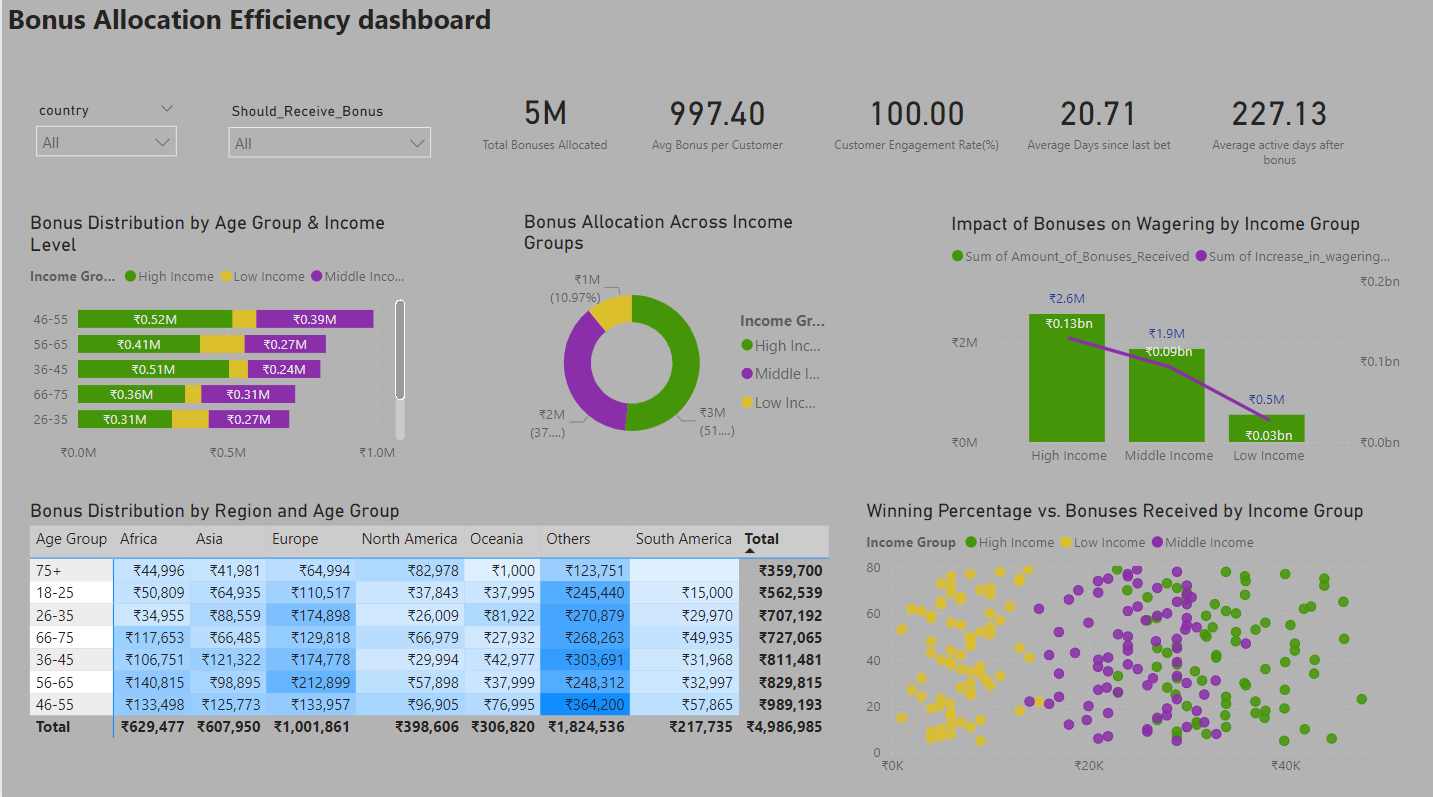

What the dashboard file says about the page in this screenshot:
{"tool":"powerbi","page":{"name":"Bonus alloc Efficiency1","canvas":[1280,720],"ordinal":0},"visuals":[{"type":"donutChart","title":"Bonus Allocation Across Income Groups","fields":{"Y":["Sum(clean_data.Amount_of_Bonuses_Received)"],"Category":["clean_data.Income Group"]},"box":[461.7,191.9,287.1,235.2],"z":0},{"type":"scatterChart","title":"Winning Percentage vs. Bonuses Received by Income Group","fields":{"X":["Sum(clean_data.Amount_of_Bonuses_Received)"],"Y":["clean_data.Winning_percentage"],"Series":["clean_data.Income Group"]},"box":[767.5,450.1,486.2,256.8],"z":1000},{"type":"pivotTable","title":"Bonus Distribution by Region and Age Group","fields":{"Values":["Sum(clean_data.Amount_of_Bonuses_Received)"],"Rows":["clean_data.Age Group"],"Columns":["clean_data.Region"]},"box":[20.2,450.1,747.4,256.8],"z":2000},{"type":"lineClusteredColumnComboChart","title":"Impact of Bonuses on Wagering by Income Group","fields":{"Category":["clean_data.Income Group"],"Y":["Sum(clean_data.Amount_of_Bonuses_Received)"],"Y2":["Sum(clean_data.Increase_in_wagering_after_Bonus)"]},"box":[842.6,194.8,411.2,235.2],"z":3000},{"type":"barChart","title":"Bonus Distribution by Age Group & Income Level","fields":{"Category":["clean_data.Age Group"],"Y":["Sum(clean_data.Amount_of_Bonuses_Received)"],"Series":["clean_data.Income Group"]},"box":[20.2,193.3,344.8,233.7],"z":4000},{"type":"card","fields":{"Values":["clean_data.Total Bonuses Allocated"]},"box":[414.3,50.2,141.8,119.5],"z":5000},{"type":"card","fields":{"Values":["clean_data.Avg Bonus per Customer"]},"box":[544.1,50.3,190.6,119.9],"z":6000},{"type":"card","fields":{"Values":["clean_data.Customer Engagement Rate(%)"]},"box":[729.9,50.3,173.8,119.9],"z":7000},{"type":"card","fields":{"Values":["clean_data.Average Days since last bet"]},"box":[903.7,50.3,153.4,119.9],"z":8000},{"type":"card","fields":{"Values":["clean_data.Average active days after bonus"]},"box":[1064.3,50.3,154.6,119.9],"z":9000},{"type":"slicer","fields":{"Values":["clean_data.country"]},"box":[20.2,90.9,145.7,67.8],"z":10000},{"type":"slicer","fields":{"Values":["clean_data.Should_Receive_Bonus"]},"box":[191.8,91.1,201.3,67.1],"z":11000},{"type":"textbox","box":[0,0,461.7,50.5],"z":12000}]}

Visuals, with their boxes in screenshot pixels (x1, y1, x2, y2), scaled from the page's 1280x720 canvas onto the 1433x797 screenshot:
"Bonus Allocation Across Income Groups" donutChart: (left=517, top=212, right=838, bottom=473)
"Winning Percentage vs. Bonuses Received by Income Group" scatterChart: (left=859, top=498, right=1404, bottom=782)
"Bonus Distribution by Region and Age Group" pivotTable: (left=23, top=498, right=859, bottom=782)
"Impact of Bonuses on Wagering by Income Group" lineClusteredColumnComboChart: (left=943, top=216, right=1404, bottom=476)
"Bonus Distribution by Age Group & Income Level" barChart: (left=23, top=214, right=409, bottom=473)
card - clean_data.Total Bonuses Allocated: (left=464, top=56, right=623, bottom=188)
card - clean_data.Avg Bonus per Customer: (left=609, top=56, right=823, bottom=188)
card - clean_data.Customer Engagement Rate(%): (left=817, top=56, right=1012, bottom=188)
card - clean_data.Average Days since last bet: (left=1012, top=56, right=1183, bottom=188)
card - clean_data.Average active days after bonus: (left=1192, top=56, right=1365, bottom=188)
slicer - clean_data.country: (left=23, top=101, right=186, bottom=176)
slicer - clean_data.Should_Receive_Bonus: (left=215, top=101, right=440, bottom=175)
textbox: (left=0, top=0, right=517, bottom=56)
